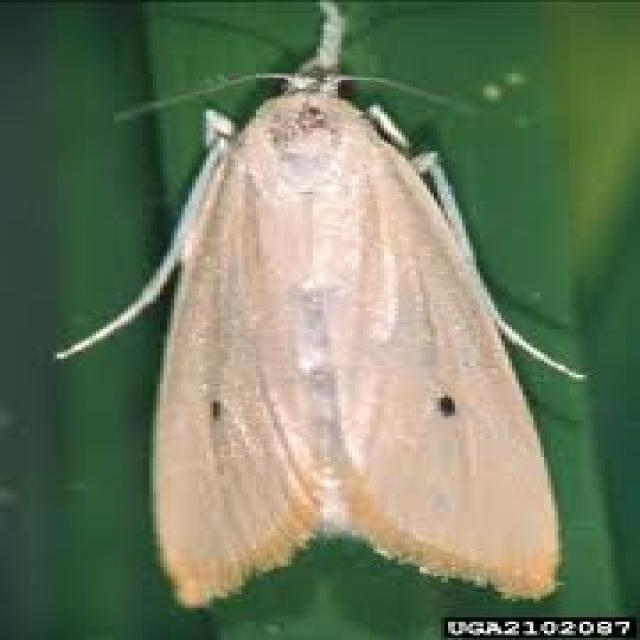yellow-stem-borer: (75, 15, 613, 613)
